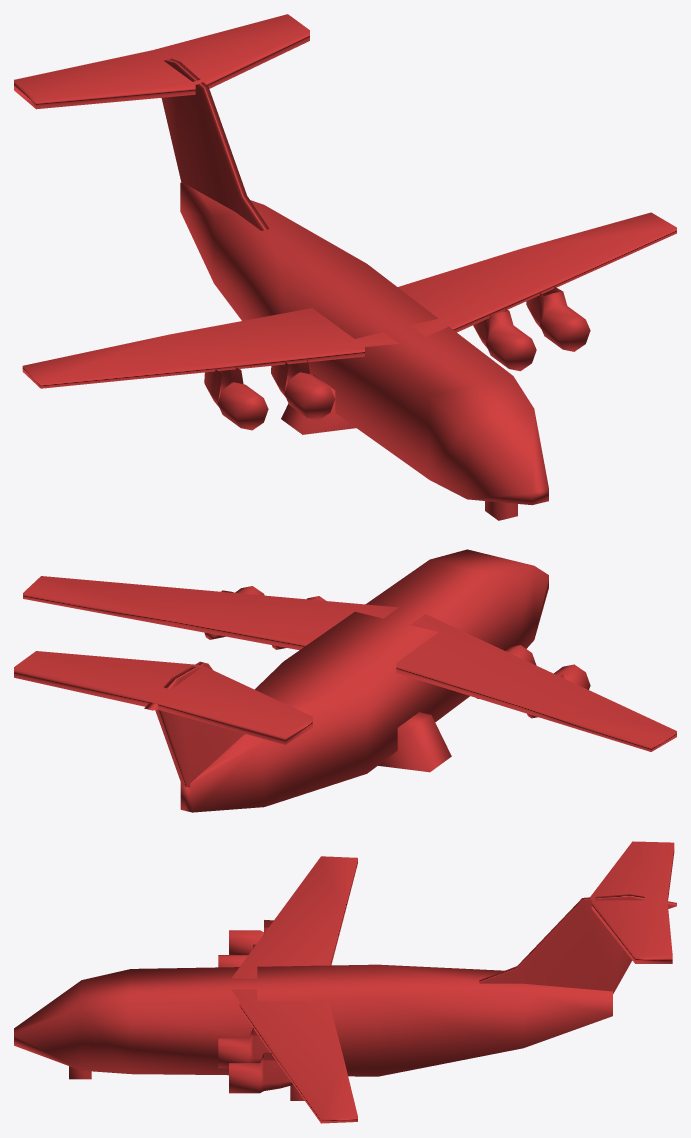
Rendered from passagiermaschine_bae146_colmesh.fbx.
The picture shows the model from 3 angles, top to bottom: view 1: azimuth 30°, elevation 25°; view 2: azimuth 150°, elevation 25°; view 3: azimuth 270°, elevation 25°; orthographic projection. The views are drawn at different scales.
Parts seen in each view (by area): view 1: body_main; view 2: body_main; view 3: body_main.
Boxes of the visible parts, x1=… form: body_main: x1=14, y1=14, x2=676, y2=520; body_main: x1=14, y1=549, x2=676, y2=812; body_main: x1=14, y1=841, x2=676, y2=1123.
Bounding box in the file's own units: 2625 × 844 × 2805.
